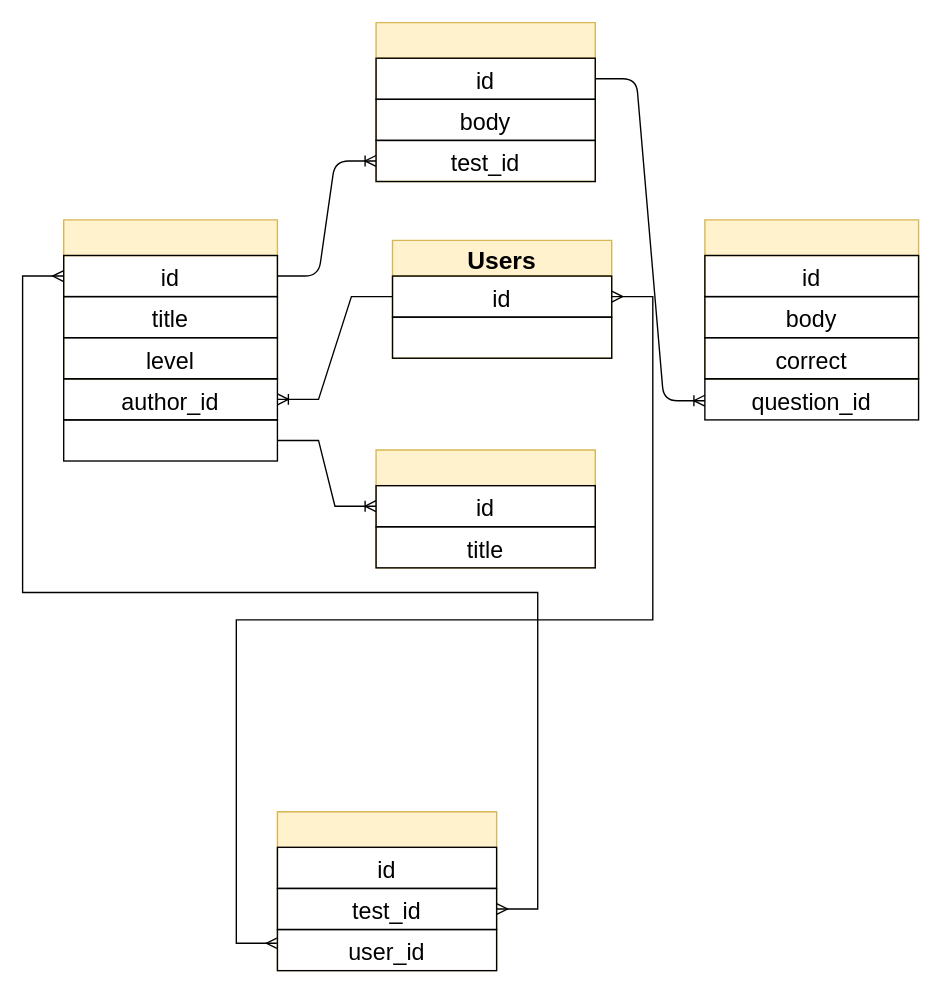
Image size: 941x993. Some labels were removed from this diagram. The box of each missing label's shape, as (x1, y1, x2, y2) in pixels:
Answers: (703, 219, 919, 379)
Categories: (375, 449, 595, 568)
category_id: (62, 419, 277, 461)
name: (391, 316, 612, 358)
Questions: (375, 21, 595, 182)
Results: (276, 810, 497, 971)
Tests: (62, 219, 277, 379)
